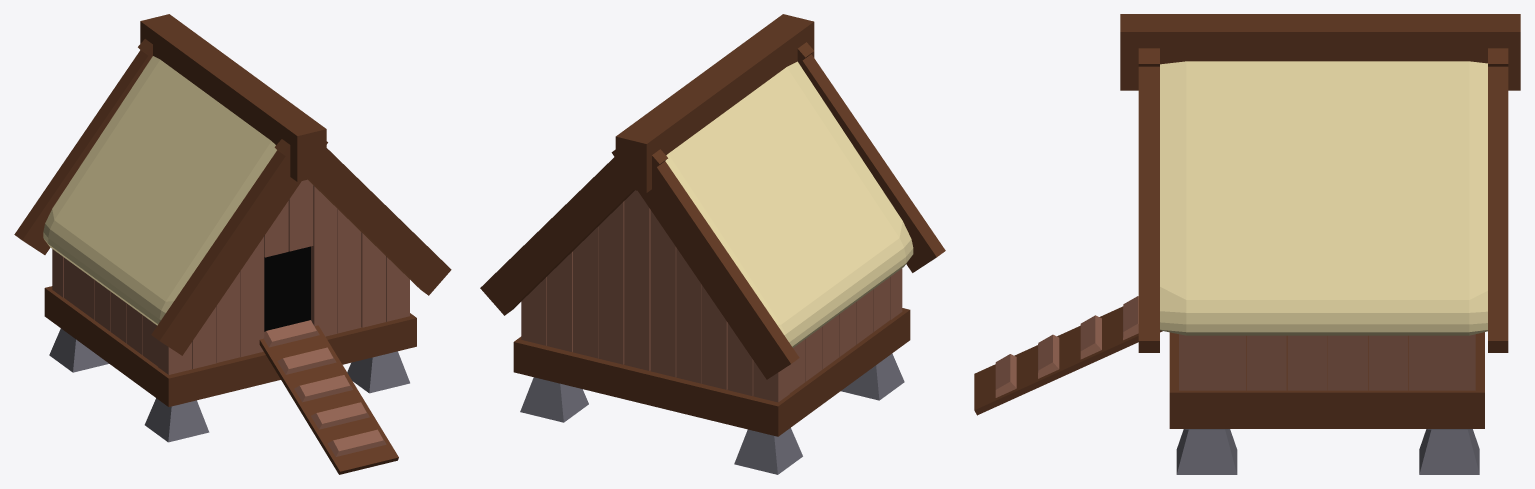
Rendered from ChickenCoup.fbx.
3 views of the same model, side by side, from view 1: azimuth 30°, elevation 25°; view 2: azimuth 150°, elevation 25°; view 3: azimuth 270°, elevation 25° (orthographic). The views are drawn at different scales.
Parts seen in each view (by area): view 1: ChickenCoup; view 2: ChickenCoup; view 3: ChickenCoup.
Part boxes in pixels (box(x1,y1,x2,y2)): ChickenCoup: box(14, 14, 451, 474); ChickenCoup: box(480, 14, 945, 474); ChickenCoup: box(974, 14, 1520, 474).
Size of the model in its own units: 479 by 465 by 610.
